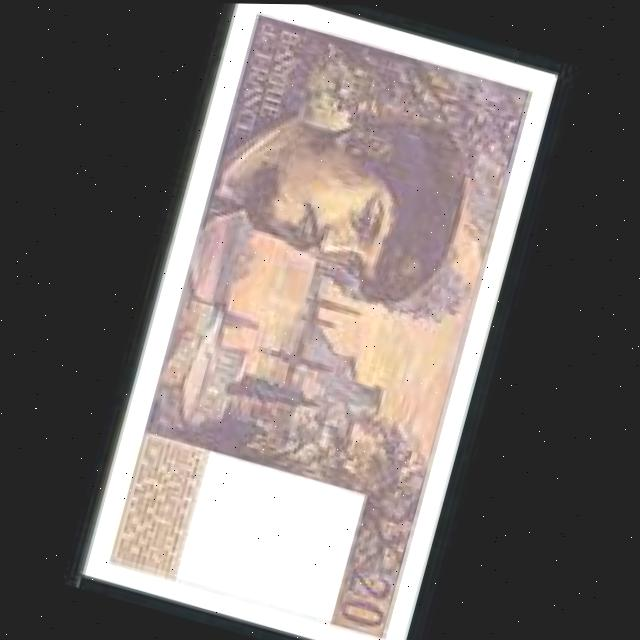banknote: (86, 1, 556, 640), (330, 562, 396, 636)
